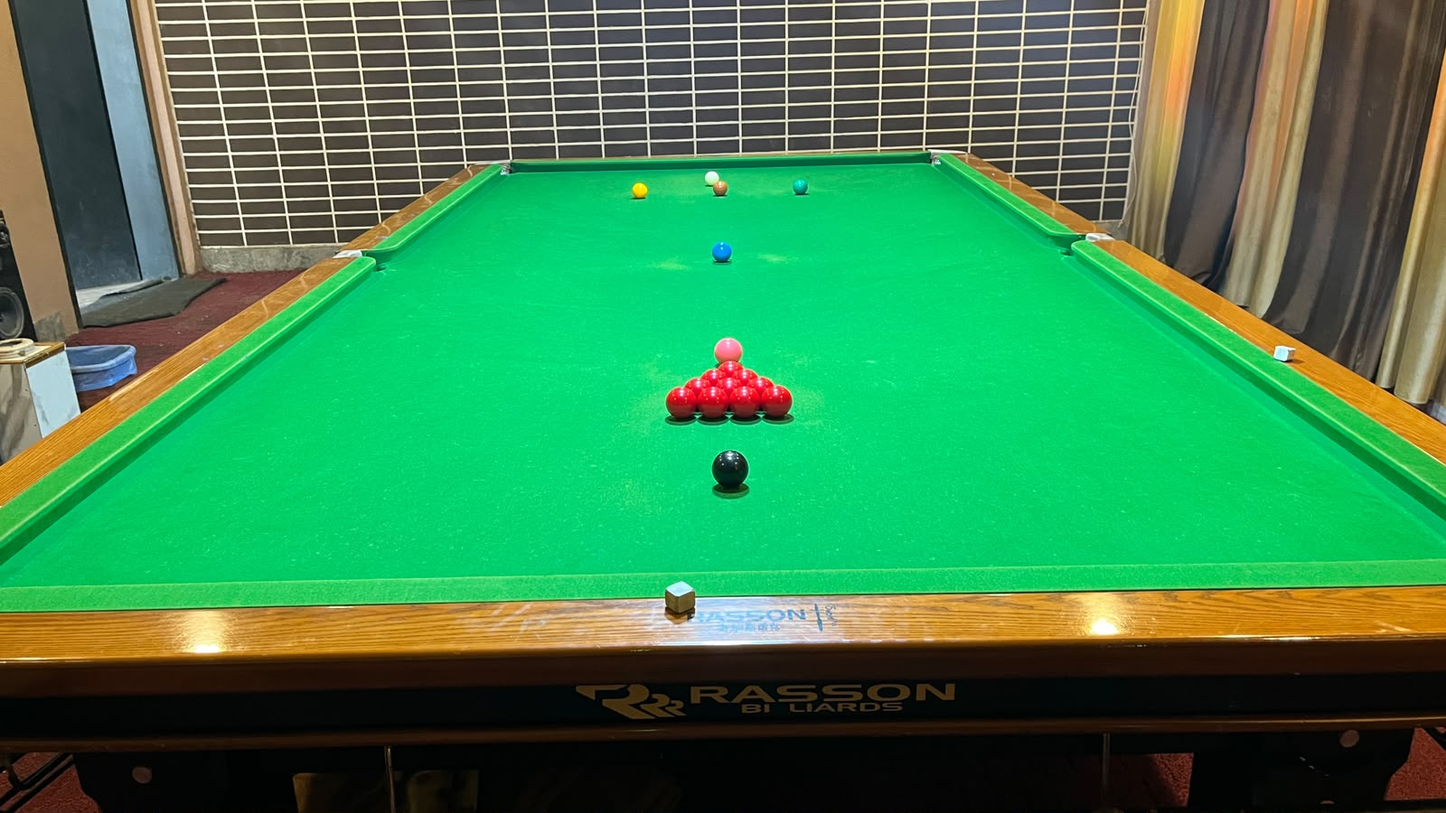Snooker: (664, 360, 800, 432)
